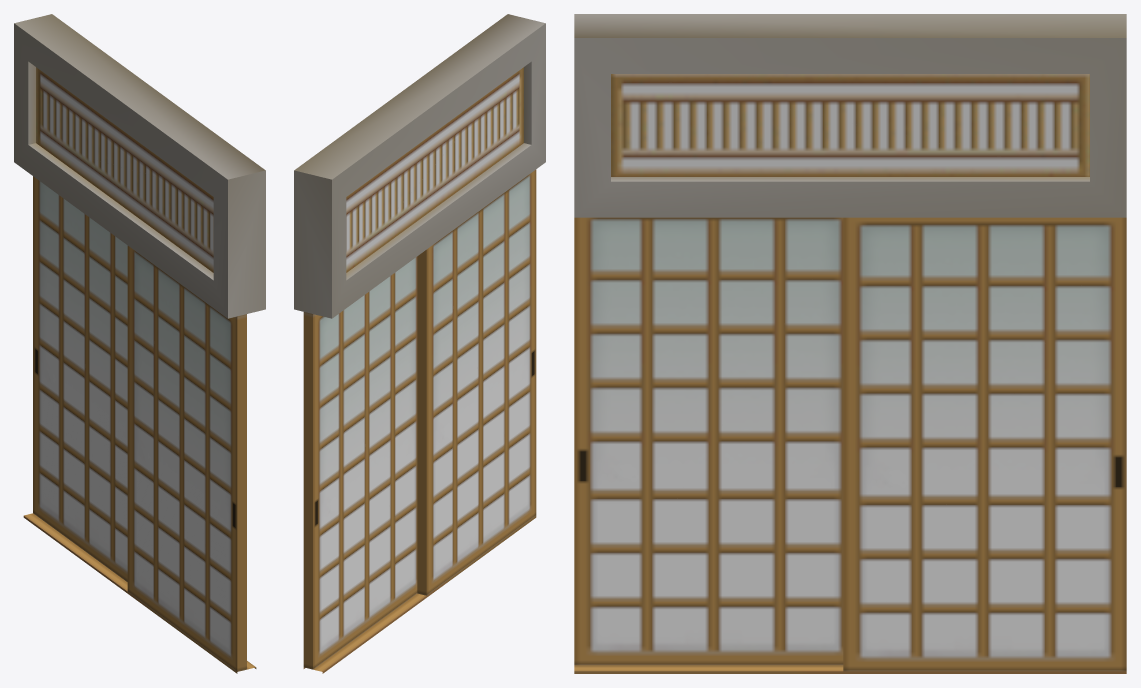
Rendered from syoji_2jyo_01.fbx.
3 views of the same model, side by side, from view 1: azimuth 30°, elevation 25°; view 2: azimuth 150°, elevation 25°; view 3: azimuth 270°, elevation 25° (orthographic). The views are drawn at different scales.
Parts seen in each view (by area): view 1: ranma01, door01, door02; view 2: ranma01, door01, door02; view 3: door02, door01, ranma01.
Part boxes in pixels (bbox=[...]): ranma01: bbox=[14, 14, 265, 673]; door01: bbox=[127, 246, 246, 671]; door02: bbox=[33, 176, 127, 581]; ranma01: bbox=[294, 14, 545, 673]; door01: bbox=[417, 169, 536, 595]; door02: bbox=[303, 257, 417, 669]; door02: bbox=[843, 217, 1126, 671]; door01: bbox=[574, 217, 843, 665]; ranma01: bbox=[574, 14, 1126, 673].
Size of the model in its own units: 40 by 500 by 390.
